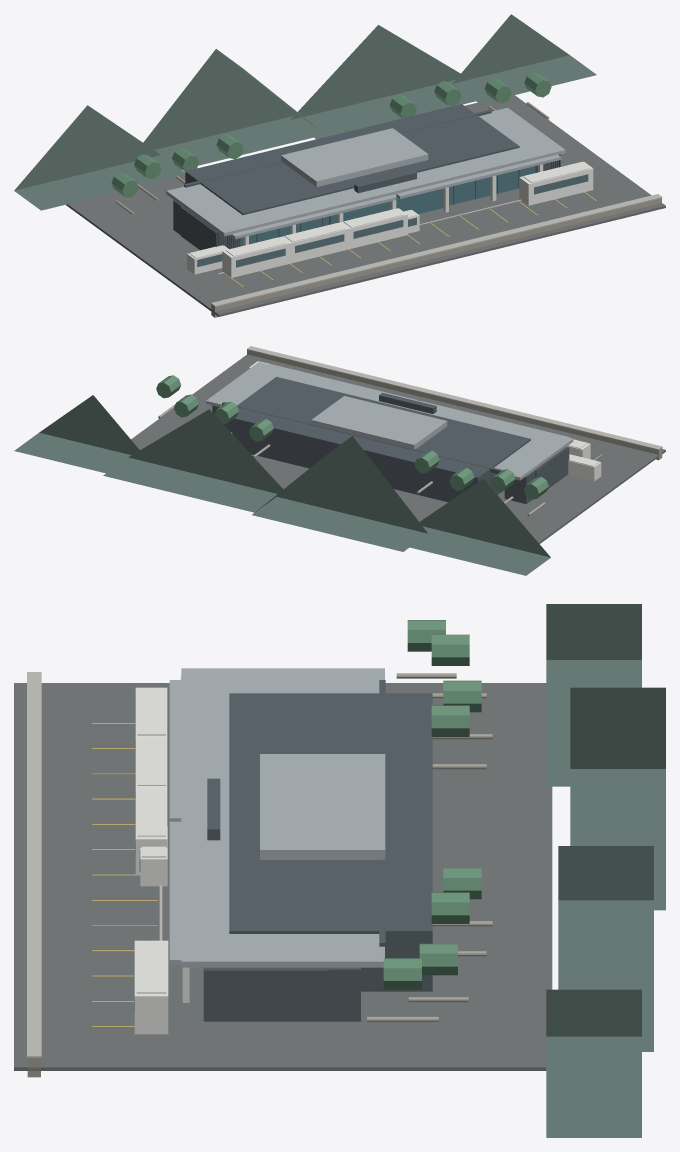
The model's file is otogar_3d_model-1.glb.
3 renders of one model, top to bottom at view 1: azimuth 30°, elevation 25°; view 2: azimuth 150°, elevation 25°; view 3: azimuth 270°, elevation 25°, orthographic. The views are drawn at different scales.
Parts seen in each view (by area): view 1: Site asphalt apron, Rear terminal volume, Mountain ridge 1, Mountain ridge 2, Main roof slab, Mountain ridge 0, Mountain ridge 3, Central raised roof, Wall coping, Front retaining wall, Coach right body, Right glass frontage (+20 smaller); view 2: Rear terminal volume, Site asphalt apron, Mountain ridge 1, Mountain ridge 2, Mountain ridge 0, Main roof slab, Mountain ridge 3, Central raised roof, Wall coping, Front retaining wall, Left facade fin -29.2, Left terminal wing (+11 smaller); view 3: Site asphalt apron, Rear terminal volume, Main roof slab, Mountain ridge 1, Mountain ridge 2, Central raised roof, Mountain ridge 3, Mountain ridge 0, Right facade fin 29.2, Wall coping, Right terminal wing, Coach right body (+16 smaller).
Boxes of the visible parts, bbox=[...] form: Site asphalt apron: bbox=[66, 95, 665, 316]; Rear terminal volume: bbox=[185, 104, 519, 215]; Mountain ridge 1: bbox=[143, 49, 324, 174]; Mountain ridge 2: bbox=[290, 25, 490, 139]; Main roof slab: bbox=[166, 107, 565, 236]; Mountain ridge 0: bbox=[14, 105, 185, 210]; Mountain ridge 3: bbox=[453, 14, 596, 103]; Central raised roof: bbox=[281, 128, 428, 186]; Wall coping: bbox=[211, 194, 662, 306]; Front retaining wall: bbox=[211, 198, 661, 317]; Coach right body: bbox=[519, 161, 593, 205]; Right glass frontage: bbox=[449, 162, 551, 205]; Rear terminal volume: bbox=[223, 377, 530, 502]; Site asphalt apron: bbox=[131, 354, 665, 543]; Mountain ridge 1: bbox=[252, 436, 427, 551]; Mountain ridge 2: bbox=[103, 409, 285, 514]; Mountain ridge 0: bbox=[391, 479, 550, 575]; Main roof slab: bbox=[206, 362, 573, 480]; Mountain ridge 3: bbox=[14, 395, 143, 477]; Central raised roof: bbox=[311, 396, 447, 449]; Wall coping: bbox=[247, 346, 662, 450]; Front retaining wall: bbox=[247, 350, 662, 460]; Left facade fin -29.2: bbox=[535, 447, 569, 488]; Left terminal wing: bbox=[504, 447, 566, 504]; Site asphalt apron: bbox=[14, 683, 552, 1070]; Rear terminal volume: bbox=[229, 693, 432, 991]; Main roof slab: bbox=[181, 668, 384, 967]; Mountain ridge 1: bbox=[570, 687, 665, 910]; Mountain ridge 2: bbox=[558, 846, 653, 1051]; Central raised roof: bbox=[260, 754, 385, 859]; Mountain ridge 3: bbox=[546, 989, 641, 1137]; Mountain ridge 0: bbox=[546, 604, 641, 786]; Right facade fin 29.2: bbox=[203, 969, 329, 1021]; Wall coping: bbox=[27, 672, 41, 1057]; Right terminal wing: bbox=[205, 967, 360, 1021]; Coach right body: bbox=[134, 940, 168, 1034].
Size of the model in its own units: 94.5 by 14.95 by 54.5.
